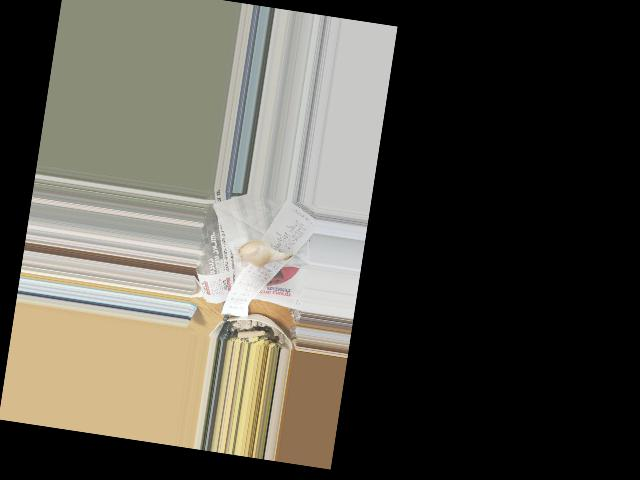onion: (236, 236, 287, 272)
